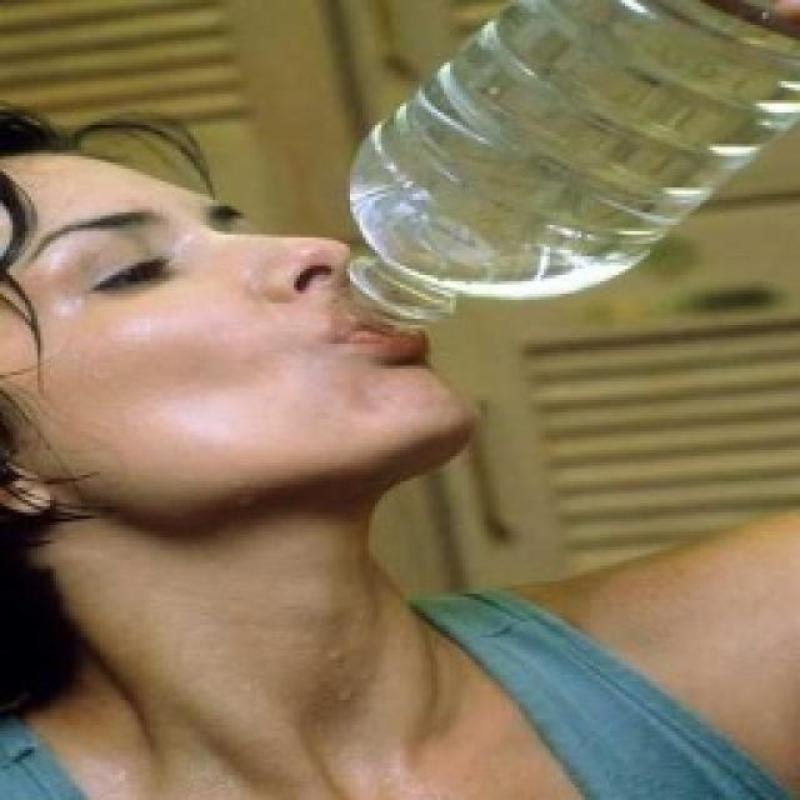botella: (344, 0, 800, 348)
